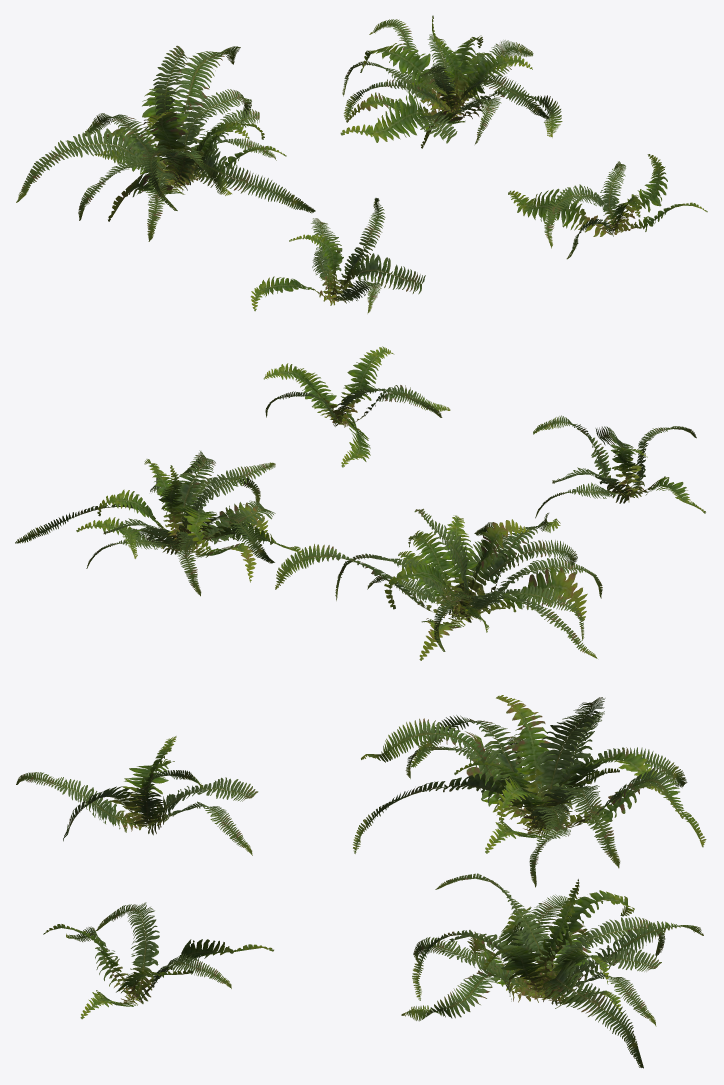
The model's file is fern_02.glb.
3 views of the same model, one above another, from view 1: azimuth 30°, elevation 25°; view 2: azimuth 150°, elevation 25°; view 3: azimuth 270°, elevation 25° (orthographic). The views are drawn at different scales.
Visible parts, largest first — view 1: fern_02_b, fern_02_c, fern_02_a, fern_02_d; view 2: fern_02_b, fern_02_c, fern_02_d, fern_02_a; view 3: fern_02_b, fern_02_c, fern_02_a, fern_02_d.
Part boxes in pixels (<box>): fern_02_b: <box>16,45,315,241</box>; fern_02_c: <box>340,15,562,148</box>; fern_02_a: <box>250,198,425,313</box>; fern_02_d: <box>508,154,707,259</box>; fern_02_b: <box>275,508,602,660</box>; fern_02_c: <box>15,450,302,596</box>; fern_02_d: <box>263,346,450,467</box>; fern_02_a: <box>533,415,705,518</box>; fern_02_b: <box>352,695,706,887</box>; fern_02_c: <box>401,873,703,1068</box>; fern_02_a: <box>16,736,258,855</box>; fern_02_d: <box>43,902,273,1019</box>.
Size of the model in its own units: 1.97 by 0.4277 by 1.72.
1 material, 1 textured.
